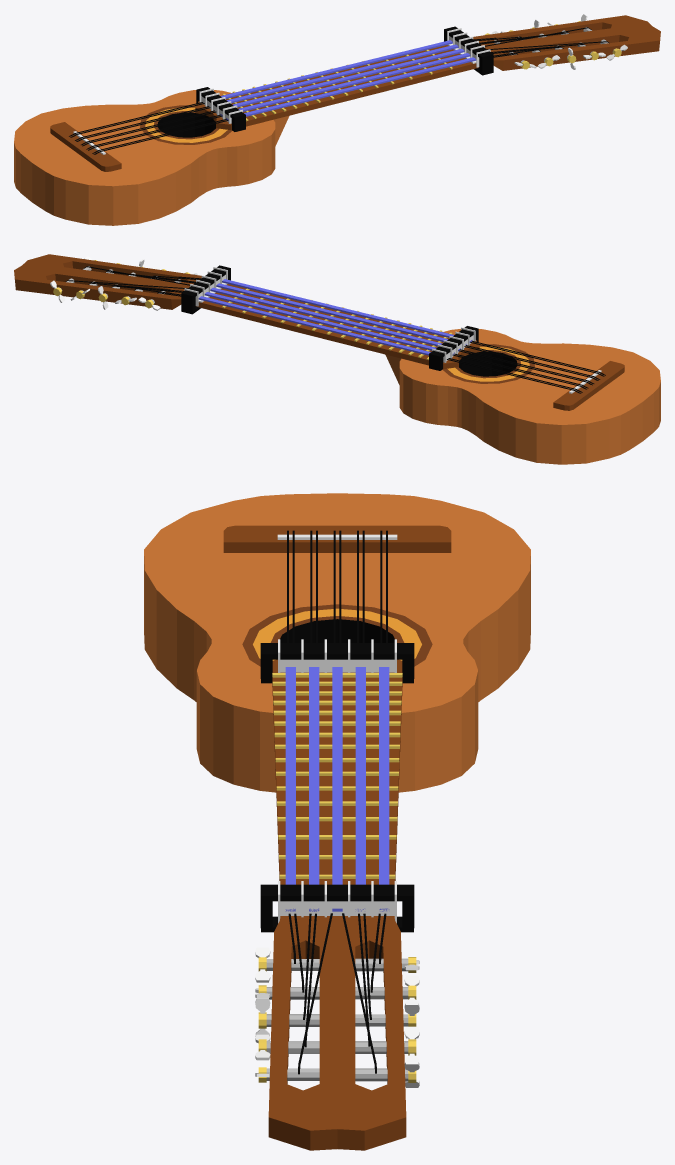
File: Charango2.fbx
3 views of the same model, one above another, from view 1: azimuth 30°, elevation 25°; view 2: azimuth 150°, elevation 25°; view 3: azimuth 270°, elevation 25° (orthographic). The views are drawn at different scales.
Visible parts, largest first — view 1: Charango, Cuerda01, Cuerda02, Cuerda04, Cuerda05, Cuerda03, Instanciador_Estructura, Marcador_Estructura; view 2: Charango, Cuerda05, Cuerda01, Cuerda03, Cuerda04, Cuerda02, Instanciador_Estructura, Marcador_Estructura; view 3: Charango, Instanciador_Estructura, Marcador_Estructura, Cuerda03, Cuerda01, Cuerda02, Cuerda05, Cuerda04.
Boxes of the visible parts, box(x1,y1,x2,y2) form: Charango: box(14, 14, 660, 225); Cuerda01: box(226, 57, 476, 120); Cuerda02: box(220, 53, 470, 116); Cuerda04: box(208, 44, 458, 105); Cuerda05: box(220, 40, 452, 98); Cuerda03: box(232, 48, 464, 107); Instanciador_Estructura: box(444, 26, 493, 75); Marcador_Estructura: box(196, 87, 245, 131); Charango: box(14, 254, 660, 464); Cuerda05: box(198, 296, 430, 355); Cuerda01: box(222, 279, 472, 342); Cuerda03: box(210, 287, 460, 350); Cuerda04: box(204, 292, 454, 354); Cuerda02: box(216, 283, 466, 344); Instanciador_Estructura: box(181, 265, 230, 314); Marcador_Estructura: box(429, 326, 478, 370); Charango: box(144, 493, 530, 1150); Instanciador_Estructura: box(260, 881, 414, 932); Marcador_Estructura: box(260, 639, 414, 683); Cuerda03: box(332, 667, 342, 911); Cuerda01: box(285, 667, 295, 911); Cuerda02: box(309, 667, 319, 911); Cuerda05: box(379, 667, 389, 911); Cuerda04: box(355, 667, 365, 911).
Size of the model in its own units: 123 by 10.5 by 33.17.
